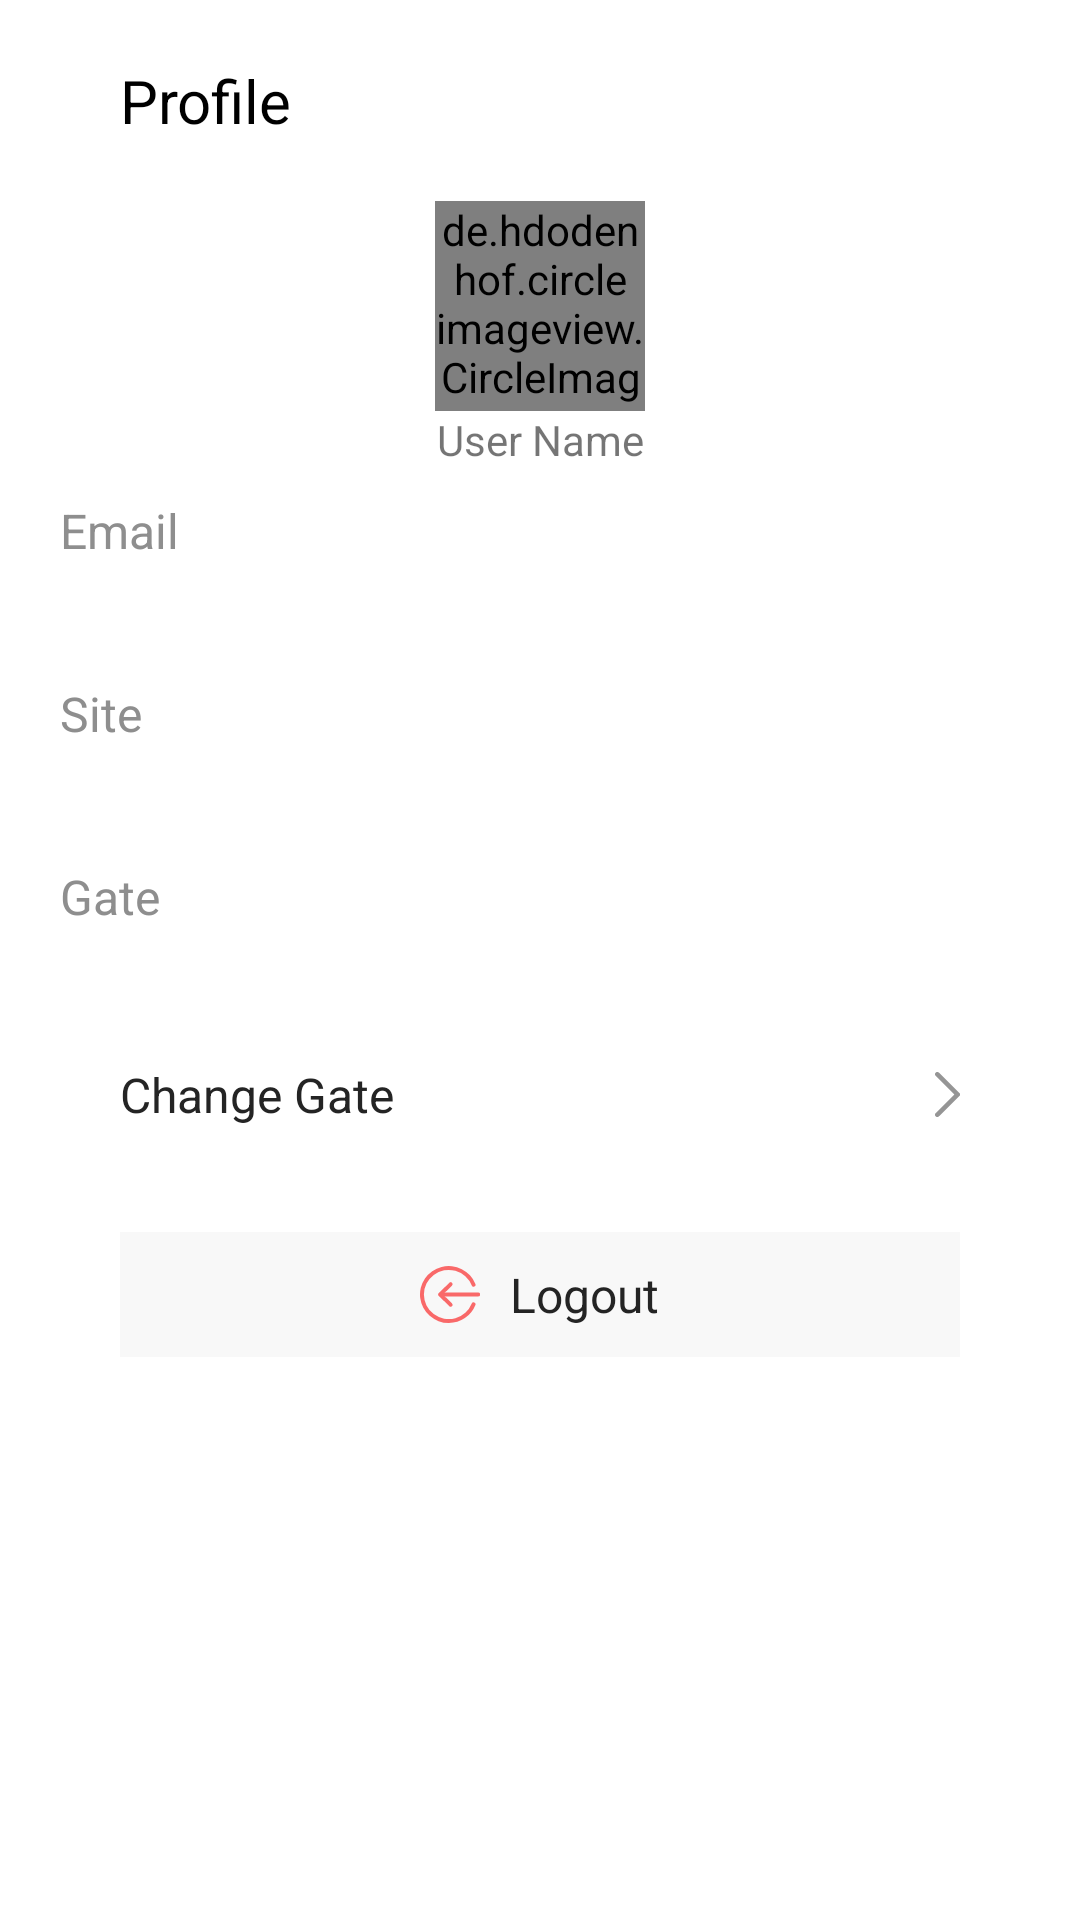

Locate icon controls on the screen. Image size 1080*1920, boxes as (x1, y1, x2, y2).
forward: (935, 1072, 960, 1117)
